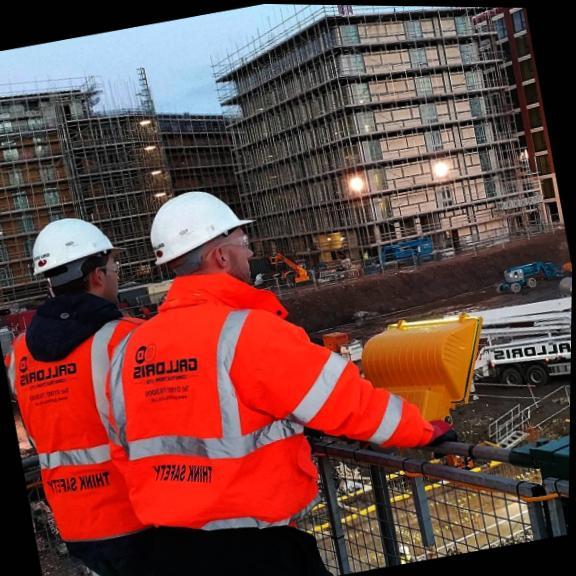safety_vest: (93, 260, 342, 550), (0, 305, 178, 565)
